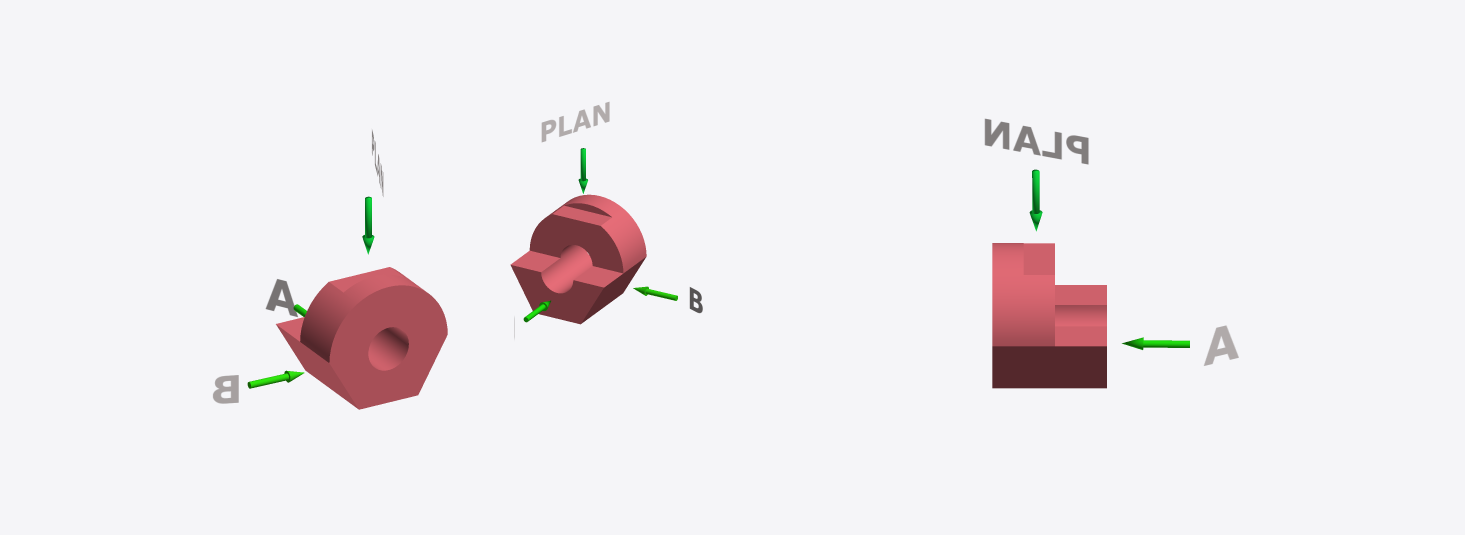
The model's file is tut3a(final).gltf.
The picture shows the model from 3 angles, left to right: view 1: azimuth 30°, elevation 25°; view 2: azimuth 150°, elevation 25°; view 3: azimuth 270°, elevation 25°; orthographic projection. The views are drawn at different scales.
Parts seen in each view (by area): view 1: Part1, Untitled1, Untitled2; view 2: Part1, Untitled; view 3: Part1, Untitled, Untitled1.
Part boxes in pixels (<box>): Part1: <box>276,267,447,409</box>; Untitled1: <box>265,279,297,316</box>; Untitled2: <box>213,375,238,403</box>; Part1: <box>510,194,646,324</box>; Untitled: <box>541,102,609,142</box>; Part1: <box>992,243,1106,388</box>; Untitled: <box>984,118,1088,164</box>; Untitled1: <box>1204,325,1238,365</box>.
Bounding box in the file's own units: 22.43 × 23.6 × 29.78.
7 materials, 3 textured.
